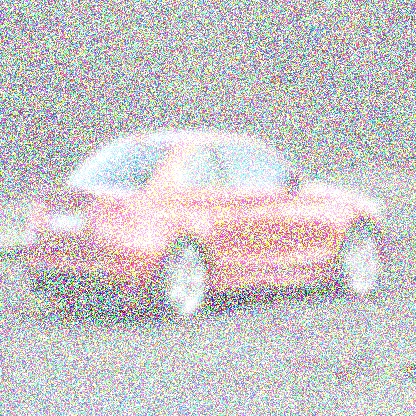Vehicle: (21, 130, 386, 320)
